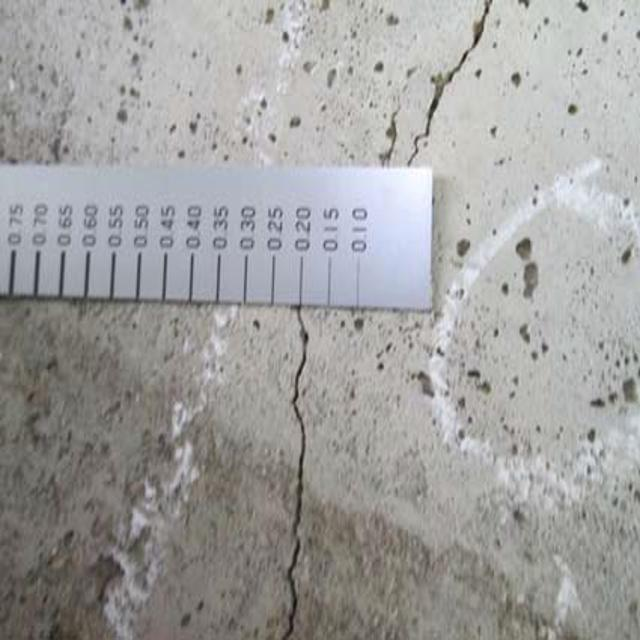crack: (257, 310, 332, 639), (386, 10, 514, 167)
